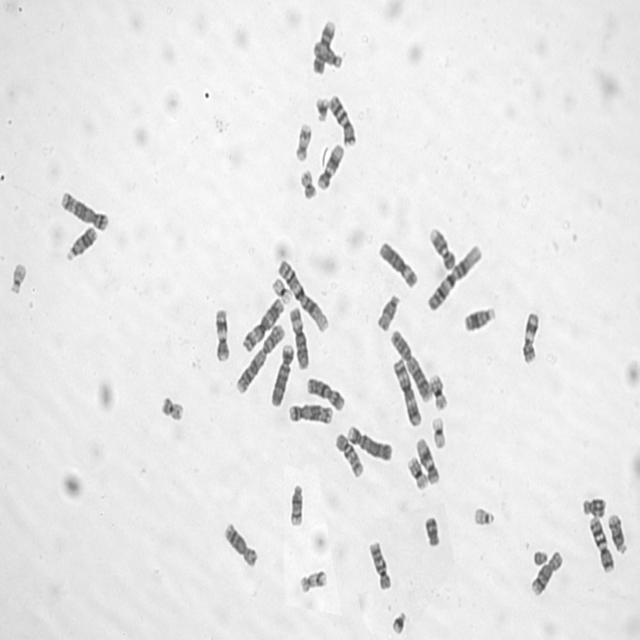A1: (275, 255, 331, 335), (424, 242, 484, 314)
A2: (234, 320, 286, 396), (389, 326, 432, 404)
A3: (240, 294, 286, 353), (391, 355, 423, 428)
B4: (345, 422, 394, 463), (268, 341, 295, 409)
B5: (59, 187, 110, 232), (286, 401, 334, 425)
C10: (333, 430, 365, 479), (367, 538, 392, 592)
C11: (520, 309, 541, 364), (212, 305, 230, 364)
C12: (315, 141, 346, 191), (414, 434, 440, 486)
C6: (377, 239, 419, 289), (288, 304, 310, 371)
C7: (586, 512, 616, 573), (326, 91, 357, 148)
C8: (221, 519, 259, 569), (529, 546, 564, 598)
C9: (310, 17, 337, 74), (427, 225, 457, 272)
D13: (64, 223, 99, 263), (462, 303, 496, 334)
D14: (286, 480, 307, 528), (606, 511, 628, 556)
D15: (311, 36, 344, 70), (374, 292, 401, 333)
E16: (406, 454, 430, 492), (428, 371, 450, 412)
E17: (294, 120, 314, 164), (298, 566, 328, 594)
E18: (421, 512, 442, 549), (580, 494, 606, 518)
F19: (270, 274, 294, 305), (430, 414, 447, 449)
F20: (160, 392, 184, 422), (298, 167, 318, 201)
G21: (390, 608, 408, 635), (314, 94, 330, 122)
G22: (8, 259, 28, 296), (470, 502, 497, 528)
X: (305, 374, 346, 412)
